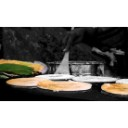dosa: (38, 76, 93, 92), (96, 75, 128, 95), (7, 76, 48, 90)
